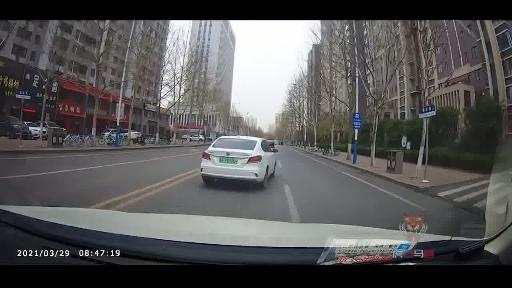CAR: (202, 136, 280, 190)
